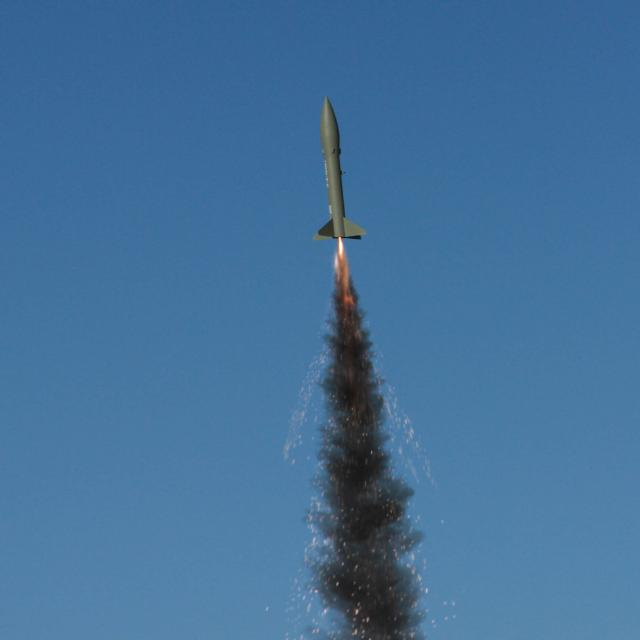Rocket: (311, 95, 368, 242)
